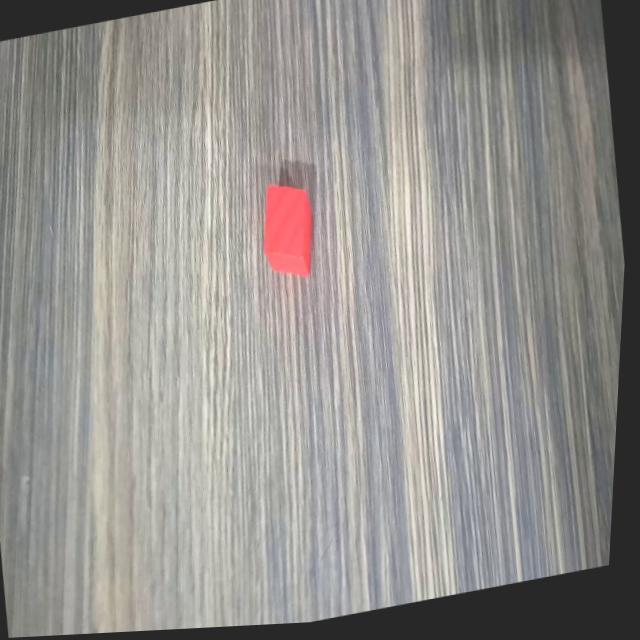cube: (253, 174, 326, 293)
